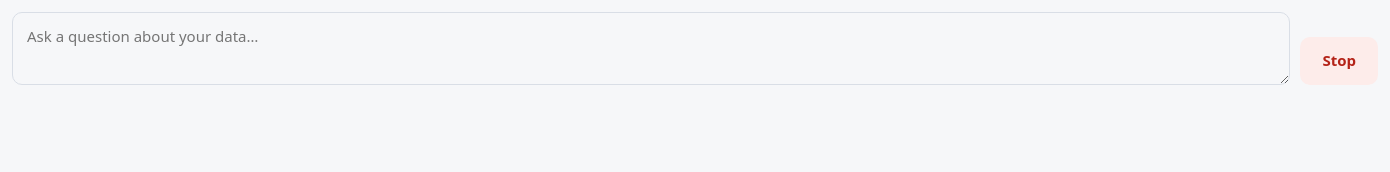
Test: QuestionForm › leaves the focus alone after a click, which would open a phone's keyboard
Click the button "Stop" at [1339, 60], box left=1300, top=36, right=1378, bottom=84
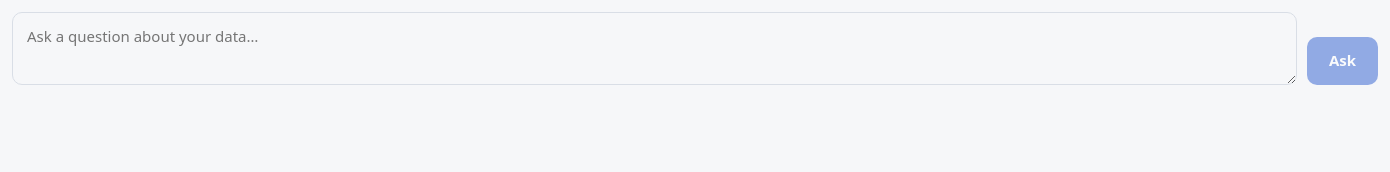
Check: the button "Ask" is shown, box left=1307, top=36, right=1378, bottom=84
